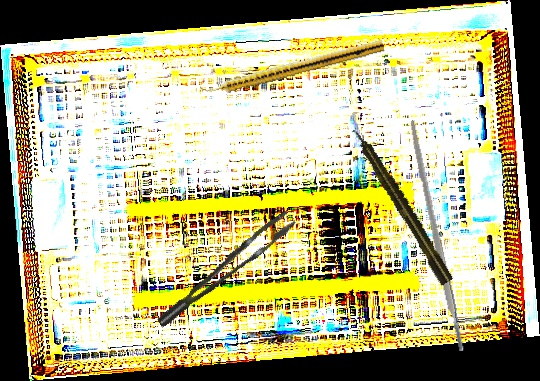Handpiece: (348, 124, 455, 287), (199, 35, 385, 101)
Scalpel Handle: (406, 119, 466, 353)
Tissue Forceps: (144, 209, 306, 328)
